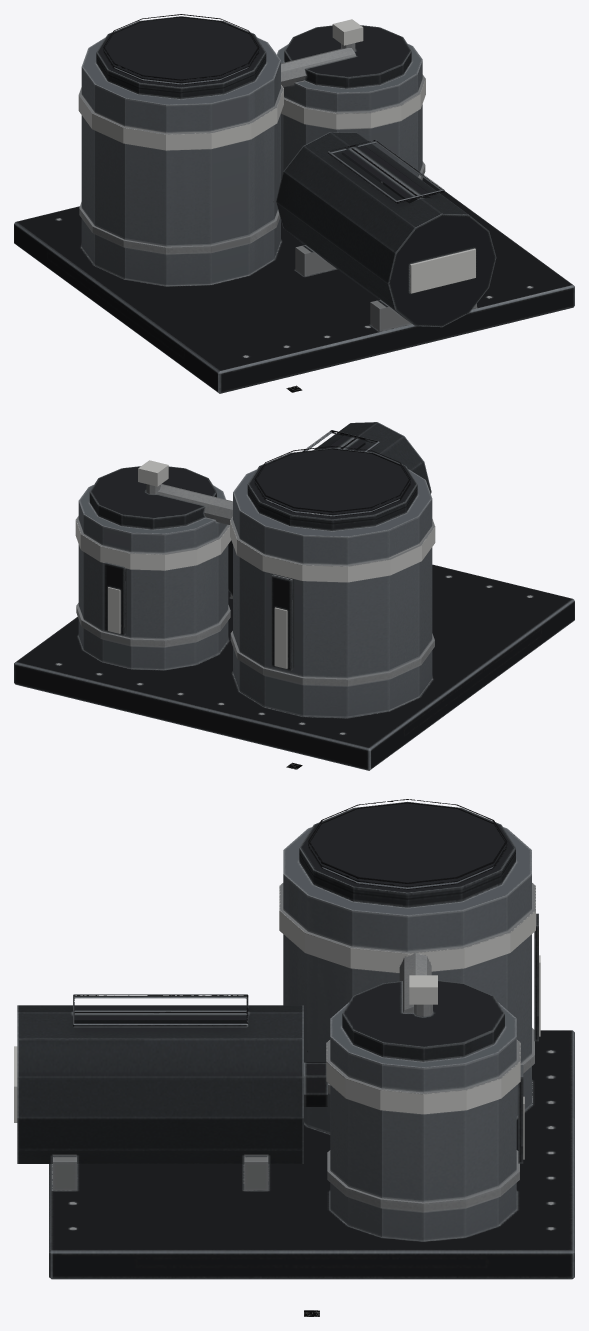
The model's file is chs_depot.fbx.
The picture shows the model from 3 angles, top to bottom: view 1: azimuth 30°, elevation 25°; view 2: azimuth 150°, elevation 25°; view 3: azimuth 270°, elevation 25°; orthographic projection. The views are drawn at different scales.
Visible parts, largest first — view 1: base_bar, base_glow_power_bar, base_glow_running_bar; view 2: base_bar, base_glow_power_bar, base_glow_running_bar; view 3: base_bar, base_glow_power_bar, base_glow_running_bar.
Boxes of the visible parts, x1,y1,x2,y2 form: base_bar: [14, 14, 574, 393]; base_glow_power_bar: [78, 79, 475, 293]; base_glow_running_bar: [332, 19, 363, 45]; base_bar: [14, 422, 574, 770]; base_glow_power_bar: [75, 520, 435, 668]; base_glow_running_bar: [138, 460, 168, 486]; base_bar: [17, 799, 574, 1279]; base_glow_power_bar: [14, 910, 540, 1159]; base_glow_running_bar: [409, 975, 437, 1004].
Size of the model in its own units: 660 by 589 by 704.
Materials: 2 (2 with a texture image).
